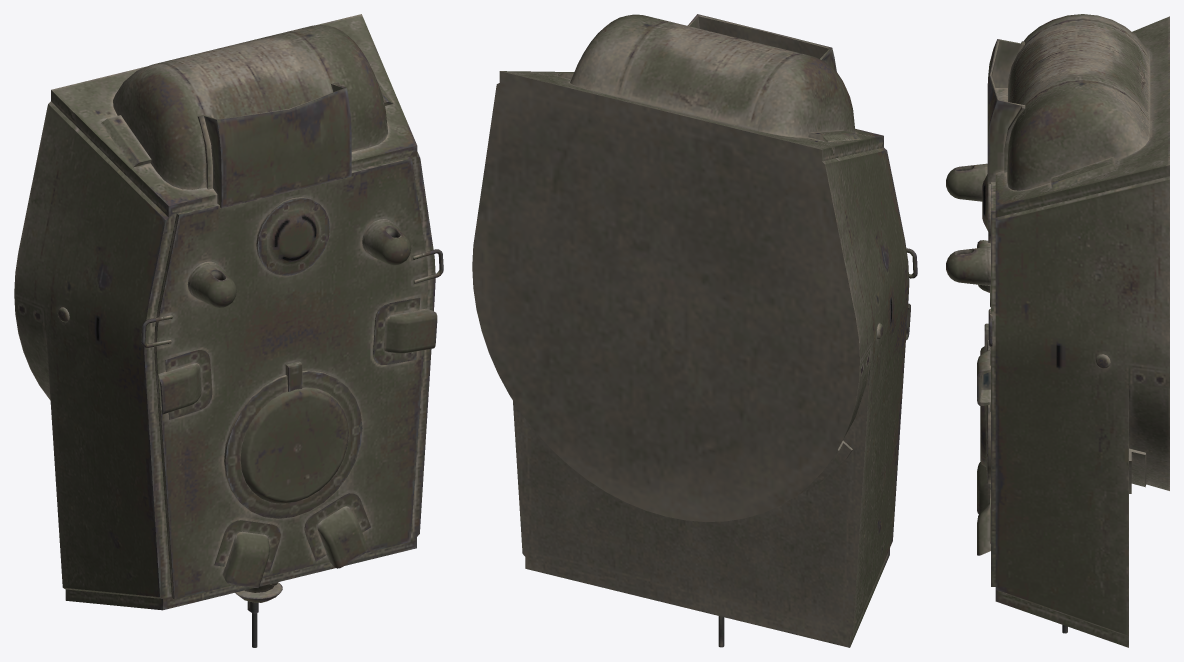
File: Turret_01.glb
The picture shows the model from 3 angles, left to right: view 1: azimuth 30°, elevation 25°; view 2: azimuth 150°, elevation 25°; view 3: azimuth 270°, elevation 25°; orthographic projection. The views are drawn at different scales.
Parts seen in each view (by area): view 1: set_0_group_0; view 2: set_0_group_0; view 3: set_0_group_0.
Boxes of the visible parts, x1,y1,x2,y2 form: set_0_group_0: (14,14,443,647); set_0_group_0: (472,14,917,647); set_0_group_0: (946,14,1169,647).
Bounding box in the file's own units: 1.96 × 2.96 × 1.04.
Materials: 1 (1 with a texture image).
